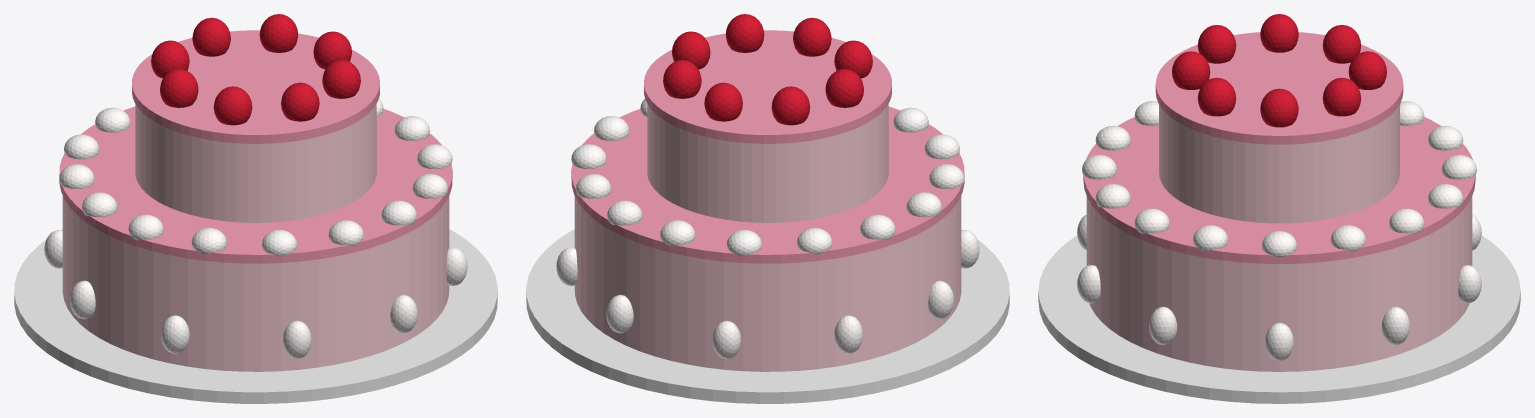
Rendered from torta_fresa.glb.
The picture shows the model from 3 angles, left to right: view 1: azimuth 30°, elevation 25°; view 2: azimuth 150°, elevation 25°; view 3: azimuth 270°, elevation 25°; orthographic projection.
Parts seen in each view (by area): view 1: torta_fresa_1, torta_fresa_0, torta_fresa_19, torta_fresa_2, torta_fresa_20, torta_fresa_23, torta_fresa_27, torta_fresa_22, torta_fresa_24, torta_fresa_28, torta_fresa_25, torta_fresa_26 (+19 smaller); view 2: torta_fresa_1, torta_fresa_0, torta_fresa_19, torta_fresa_2, torta_fresa_20, torta_fresa_27, torta_fresa_23, torta_fresa_26, torta_fresa_28, torta_fresa_22, torta_fresa_25, torta_fresa_24 (+19 smaller); view 3: torta_fresa_1, torta_fresa_0, torta_fresa_19, torta_fresa_2, torta_fresa_20, torta_fresa_21, torta_fresa_25, torta_fresa_22, torta_fresa_28, torta_fresa_23, torta_fresa_27, torta_fresa_24 (+19 smaller).
Boxes of the visible parts, left/top/right/bottom form: torta_fresa_1: left=62, top=196, right=449, bottom=371; torta_fresa_0: left=14, top=229, right=497, bottom=403; torta_fresa_19: left=135, top=104, right=376, bottom=222; torta_fresa_2: left=59, top=106, right=452, bottom=263; torta_fresa_20: left=132, top=30, right=379, bottom=143; torta_fresa_23: left=281, top=82, right=319, bottom=121; torta_fresa_27: left=192, top=17, right=230, bottom=56; torta_fresa_22: left=322, top=60, right=360, bottom=98; torta_fresa_24: left=213, top=86, right=252, bottom=125; torta_fresa_28: left=259, top=14, right=298, bottom=52; torta_fresa_25: left=160, top=69, right=198, bottom=107; torta_fresa_26: left=151, top=40, right=189, bottom=78; torta_fresa_1: left=574, top=196, right=961, bottom=371; torta_fresa_0: left=526, top=229, right=1009, bottom=403; torta_fresa_19: left=647, top=104, right=888, bottom=222; torta_fresa_2: left=571, top=106, right=964, bottom=263; torta_fresa_20: left=644, top=30, right=891, bottom=143; torta_fresa_27: left=704, top=82, right=742, bottom=121; torta_fresa_23: left=793, top=17, right=831, bottom=56; torta_fresa_26: left=771, top=86, right=810, bottom=125; torta_fresa_28: left=663, top=60, right=701, bottom=98; torta_fresa_22: left=725, top=14, right=764, bottom=52; torta_fresa_25: left=825, top=69, right=863, bottom=107; torta_fresa_24: left=834, top=40, right=872, bottom=78; torta_fresa_1: left=1086, top=196, right=1472, bottom=371; torta_fresa_0: left=1038, top=235, right=1520, bottom=403; torta_fresa_19: left=1159, top=104, right=1399, bottom=223; torta_fresa_2: left=1083, top=117, right=1475, bottom=263; torta_fresa_20: left=1155, top=32, right=1403, bottom=144; torta_fresa_21: left=1260, top=88, right=1298, bottom=127; torta_fresa_25: left=1260, top=14, right=1298, bottom=52; torta_fresa_22: left=1197, top=77, right=1236, bottom=116; torta_fresa_28: left=1322, top=77, right=1361, bottom=116; torta_fresa_23: left=1172, top=51, right=1210, bottom=89; torta_fresa_27: left=1348, top=51, right=1386, bottom=89; torta_fresa_24: left=1197, top=25, right=1236, bottom=63.
Bounding box in the file's own units: 0.3 × 0.1712 × 0.3.
